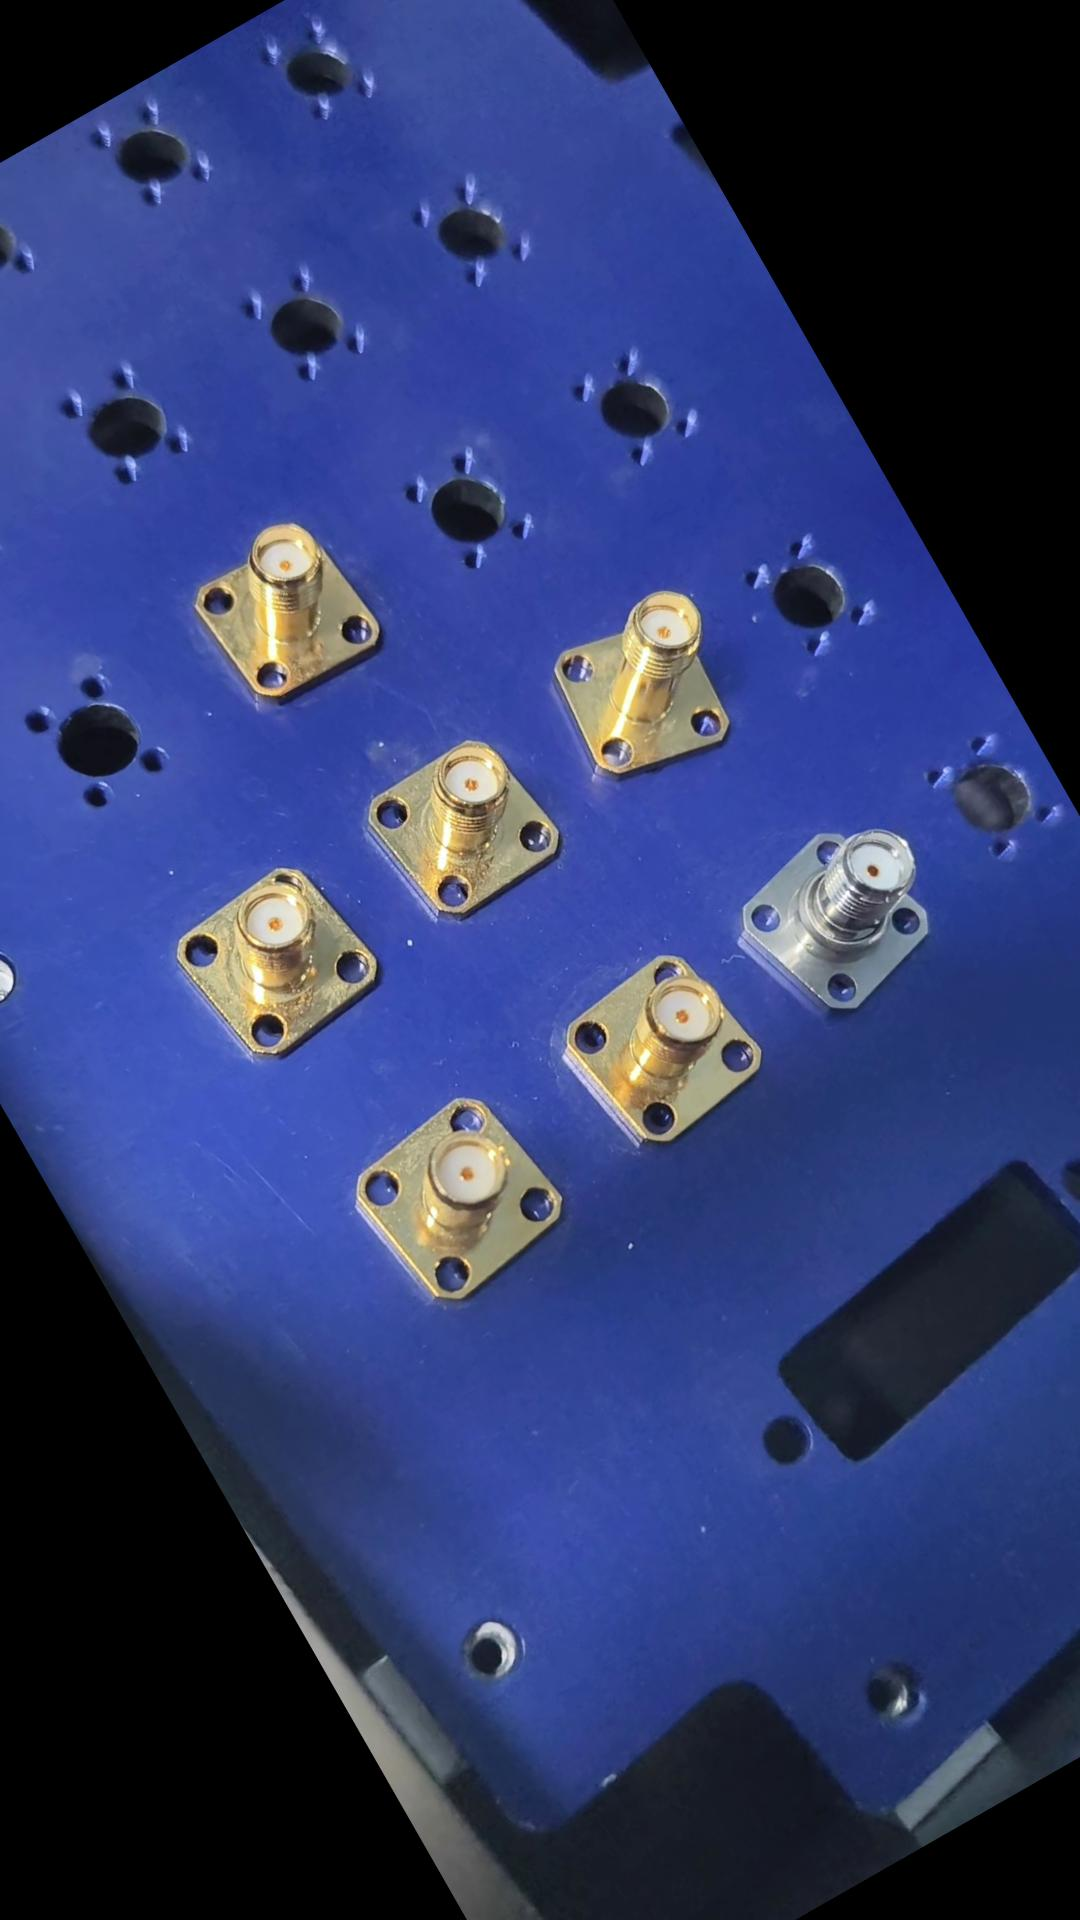SMA: (334, 1069, 593, 1331), (713, 795, 971, 1043), (543, 924, 785, 1167), (157, 840, 396, 1073), (534, 575, 767, 804), (349, 717, 578, 942), (173, 497, 400, 721)
